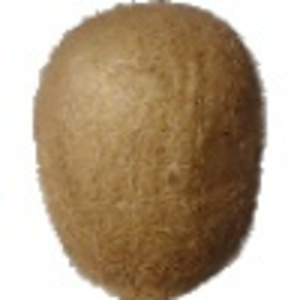kiwi: (14, 1, 268, 300)
